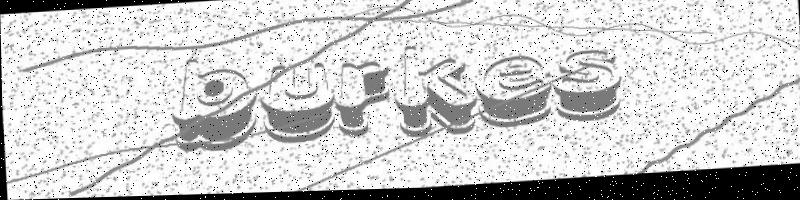b: (167, 53, 258, 154)
e: (474, 55, 553, 133)
k: (389, 42, 478, 143)
r: (332, 61, 393, 140)
s: (552, 50, 624, 128)
u: (258, 61, 337, 146)
